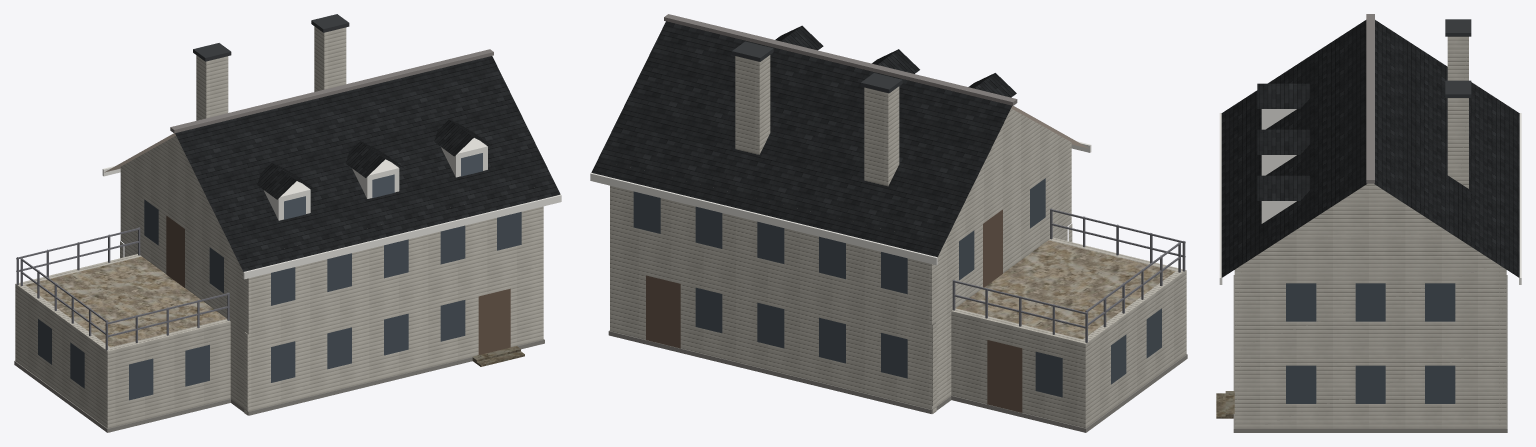
Rendered from ns-colonial.zfix-v22.lod1.glb.
3 renders of one model, left to right at view 1: azimuth 30°, elevation 25°; view 2: azimuth 150°, elevation 25°; view 3: azimuth 270°, elevation 25°, orthographic. The views are drawn at different scales.
Parts seen in each view (by area): view 1: ns-colonial; view 2: ns-colonial; view 3: ns-colonial.
Boxes of the visible parts, x1,y1,x2,y2 form: ns-colonial: [14, 14, 561, 432]; ns-colonial: [590, 14, 1187, 432]; ns-colonial: [1216, 14, 1521, 432].
Size of the model in its own units: 17.53 by 10.56 by 10.09.
Materials: 4 (3 with a texture image).
